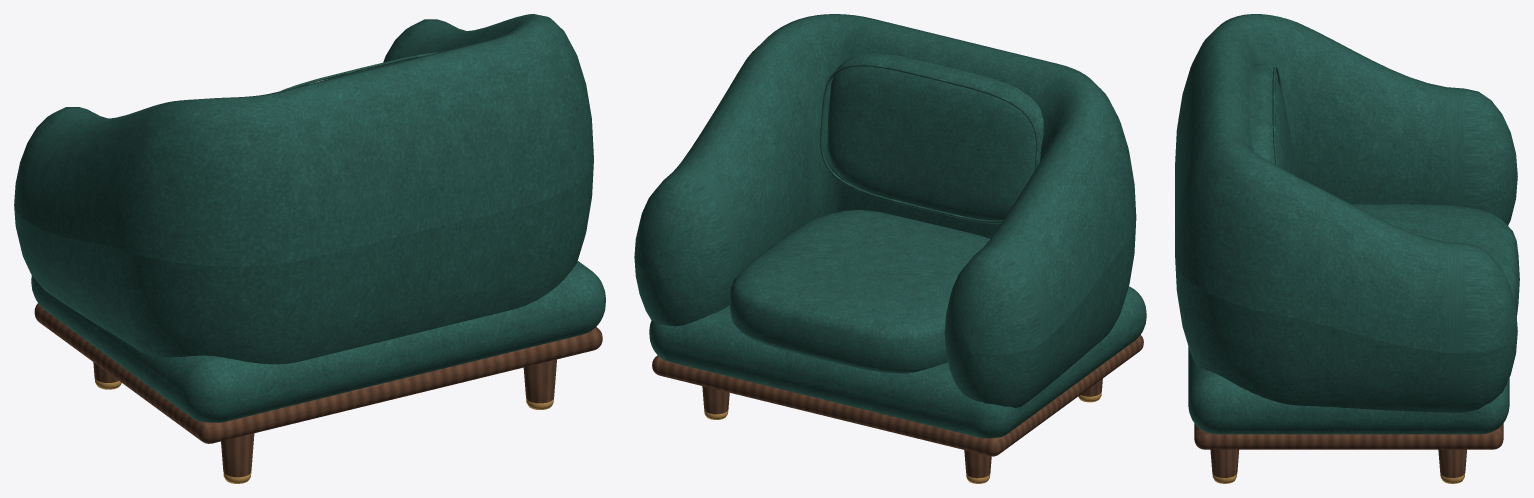
File: armchair.glb
3 renders of one model, left to right at view 1: azimuth 30°, elevation 25°; view 2: azimuth 150°, elevation 25°; view 3: azimuth 270°, elevation 25°, orthographic. The views are drawn at different scales.
Parts seen in each view (by area): view 1: UpholsteryShell, LowerUpholstery, WalnutApron, TaperedLeg4, TaperedLeg2; view 2: UpholsteryShell, SeatCushion1, BackCushion1, LowerUpholstery, WalnutApron, BackCushion1Welt, TaperedLeg1, TaperedLeg3; view 3: UpholsteryShell, LowerUpholstery, SeatCushion1, WalnutApron, BackCushion1, TaperedLeg3, TaperedLeg4, BackCushion1Welt.
Part boxes in pixels (x1,y1,x2,y2): UpholsteryShell: [14, 14, 593, 364]; LowerUpholstery: [31, 261, 605, 422]; WalnutApron: [34, 303, 602, 443]; TaperedLeg4: [523, 359, 556, 403]; TaperedLeg2: [221, 433, 254, 477]; UpholsteryShell: [634, 14, 1136, 407]; SeatCushion1: [729, 209, 989, 373]; BackCushion1: [827, 53, 1043, 224]; LowerUpholstery: [649, 286, 1146, 438]; WalnutApron: [652, 335, 1143, 456]; BackCushion1Welt: [820, 64, 1038, 222]; TaperedLeg1: [964, 450, 991, 478]; TaperedLeg3: [702, 386, 729, 414]; UpholsteryShell: [1175, 14, 1517, 412]; LowerUpholstery: [1188, 346, 1509, 434]; SeatCushion1: [1352, 204, 1519, 317]; WalnutApron: [1194, 423, 1503, 449]; BackCushion1: [1249, 63, 1296, 175]; TaperedLeg3: [1438, 449, 1466, 477]; TaperedLeg4: [1210, 449, 1238, 477]; BackCushion1Welt: [1272, 67, 1283, 165].
Bounding box in the file's own units: 1.16 × 0.9 × 0.8472.
Materials: 4 (4 with a texture image).
